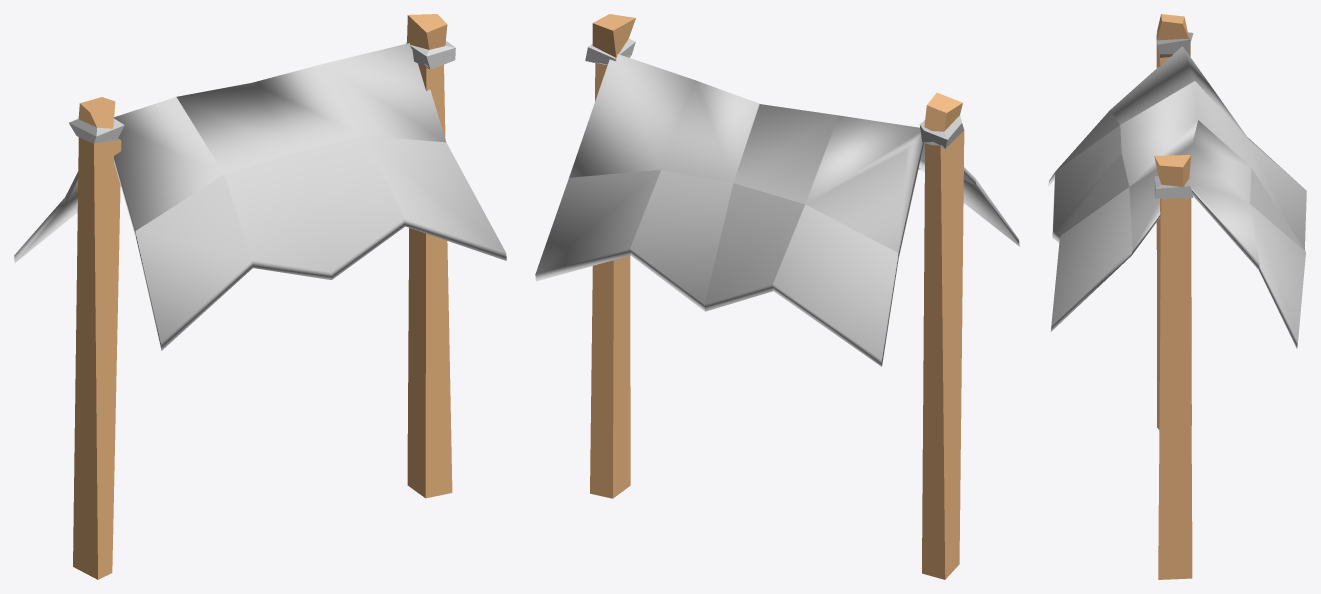
The model's file is cc_tent_stand_v2.fbx.
3 views of the same model, side by side, from view 1: azimuth 30°, elevation 25°; view 2: azimuth 150°, elevation 25°; view 3: azimuth 270°, elevation 25° (orthographic). The views are drawn at different scales.
Parts seen in each view (by area): view 1: Plane; view 2: Plane; view 3: Plane.
Part boxes in pixels (bbox=[...]): Plane: bbox=[14, 14, 506, 579]; Plane: bbox=[535, 14, 1019, 579]; Plane: bbox=[1048, 14, 1306, 579].
Size of the model in its own units: 506 by 624 by 352.
